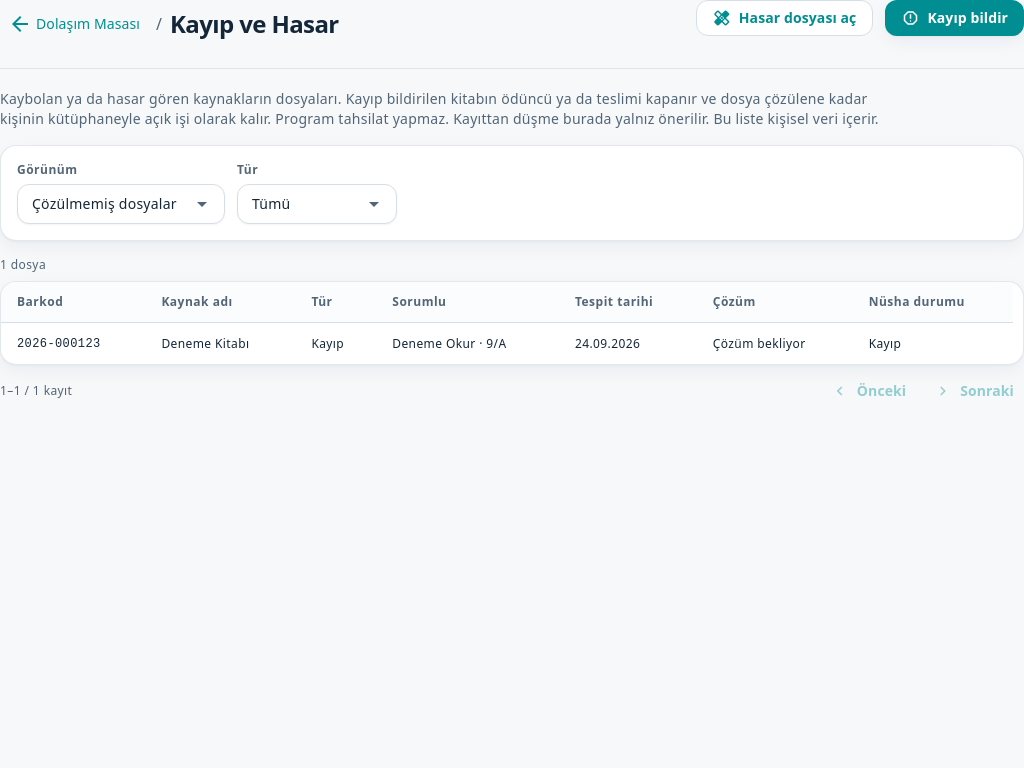
Test case: KayipHasarPage › dosya açma düğmeleri pencereyi açar; açılan dosya ayrıntıda gösterilir
This screenshot has width=1024, height=768.
Click the button "Hasar dosyası aç" at (785, 18), box [696,0,873,36]
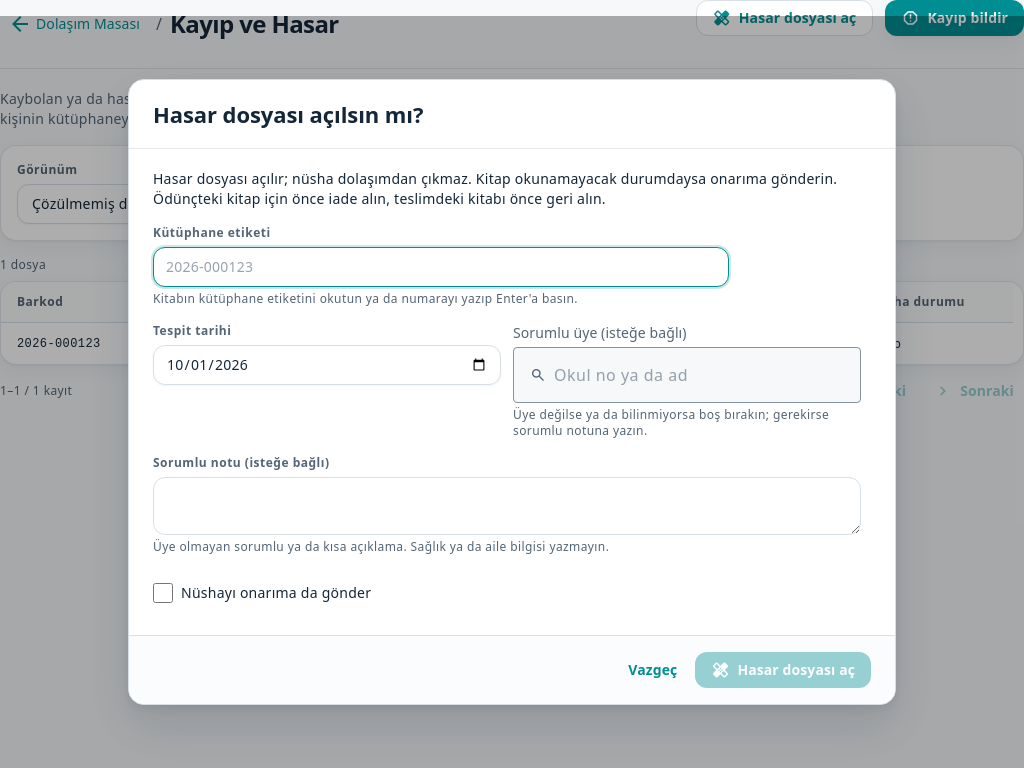
Type "2026000123" into the field labelled "Kütüphane etiketi" at (441, 267), box [166,257,716,277]
Then press Enter
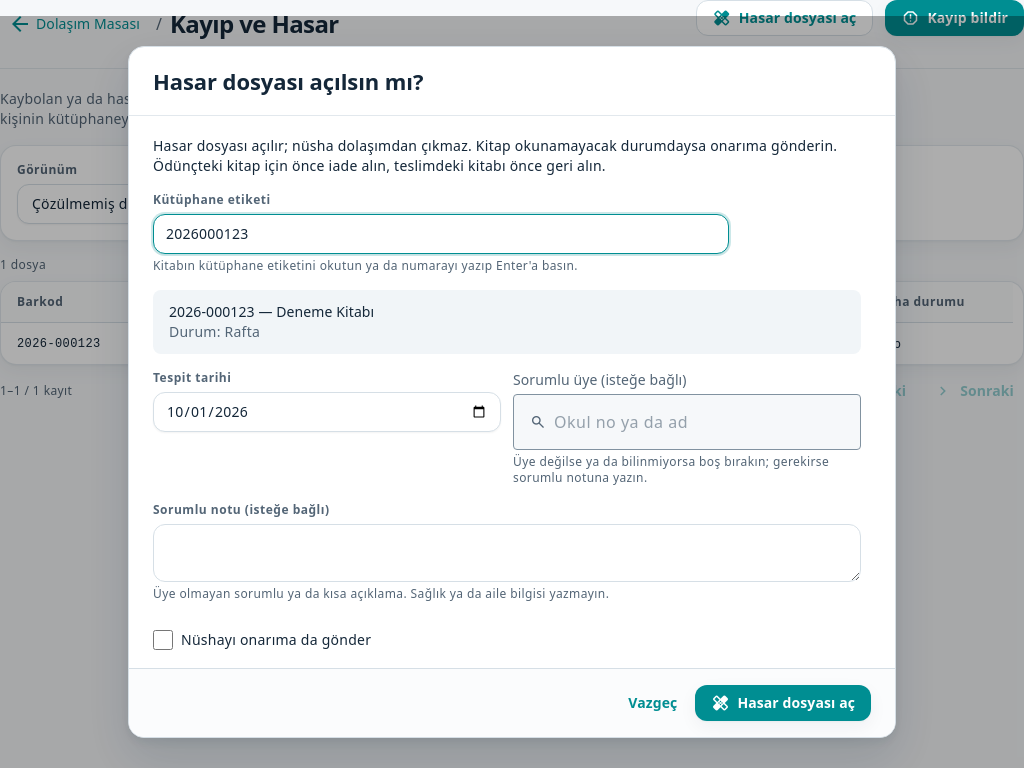
Expected: the text "Durum: Rafta" is shown, [169,322,260,341]
Click the button "Hasar dosyası aç" at (783, 703), box [695,685,871,721]
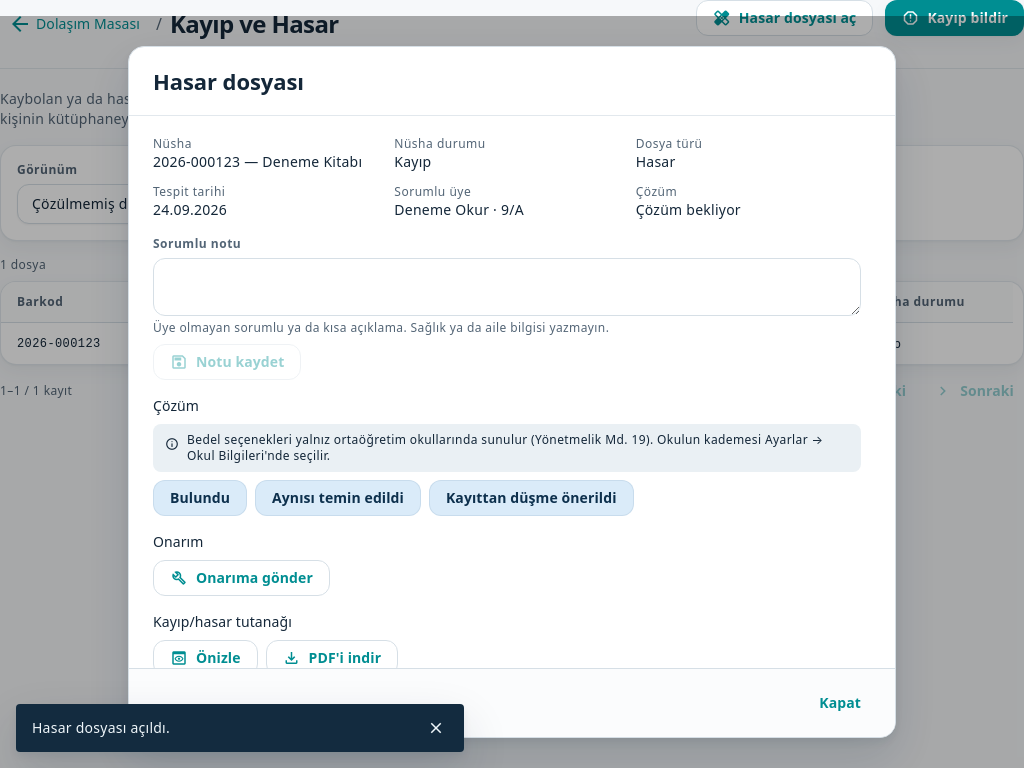
Expected: the dialog "Hasar dosyası" is shown
Expected: the text "Hasar dosyası açıldı." is shown, [32,718,170,737]
